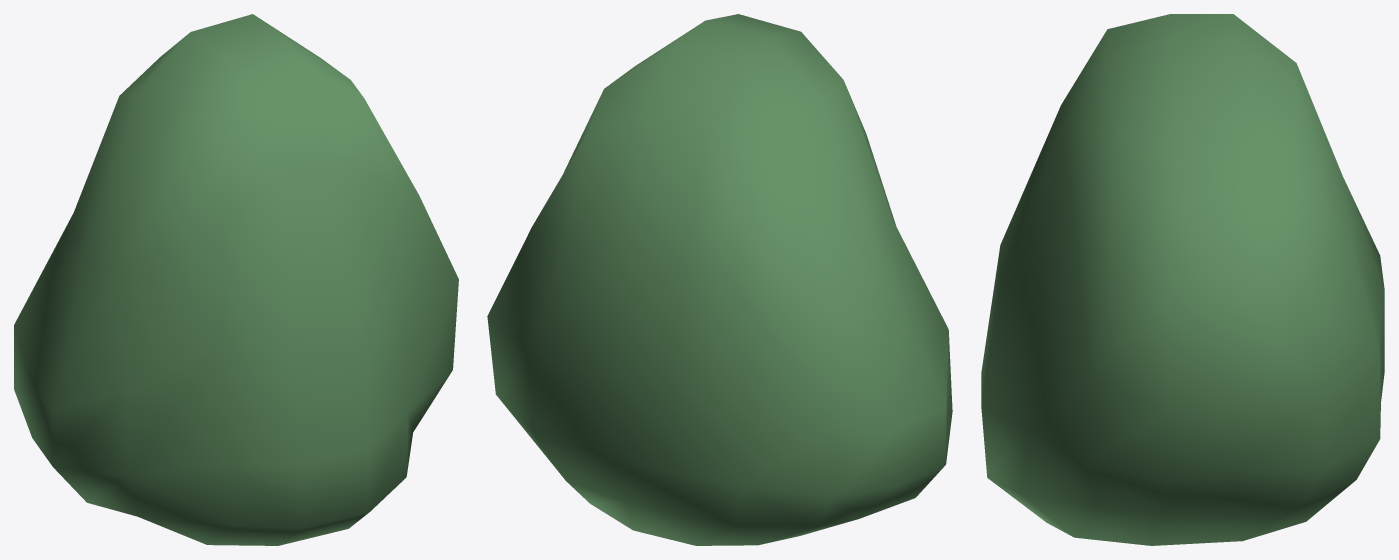
Rendered from Bush_2.fbx.
3 renders of one model, left to right at view 1: azimuth 30°, elevation 25°; view 2: azimuth 150°, elevation 25°; view 3: azimuth 270°, elevation 25°, orthographic. The views are drawn at different scales.
Visible parts, largest first — view 1: Bush_2; view 2: Bush_2; view 3: Bush_2.
Part boxes in pixels (x1,y1,x2,y2): Bush_2: (14,14,458,545); Bush_2: (487,14,952,545); Bush_2: (981,14,1384,545).
Size of the model in its own units: 3.51 by 3.91 by 2.93.
